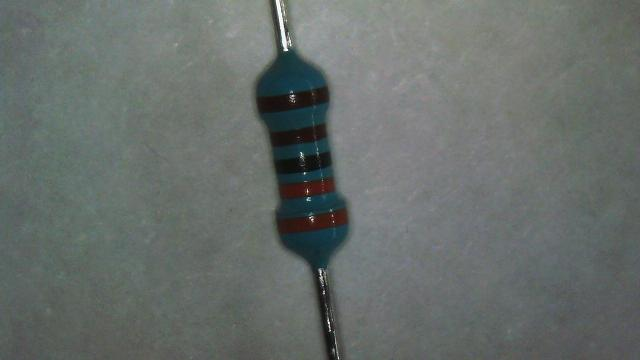black: (275, 152, 332, 174)
brown: (257, 86, 328, 113), (270, 124, 327, 147)
orange: (277, 208, 348, 233), (280, 178, 335, 198)
resistor: (241, 48, 366, 268)
